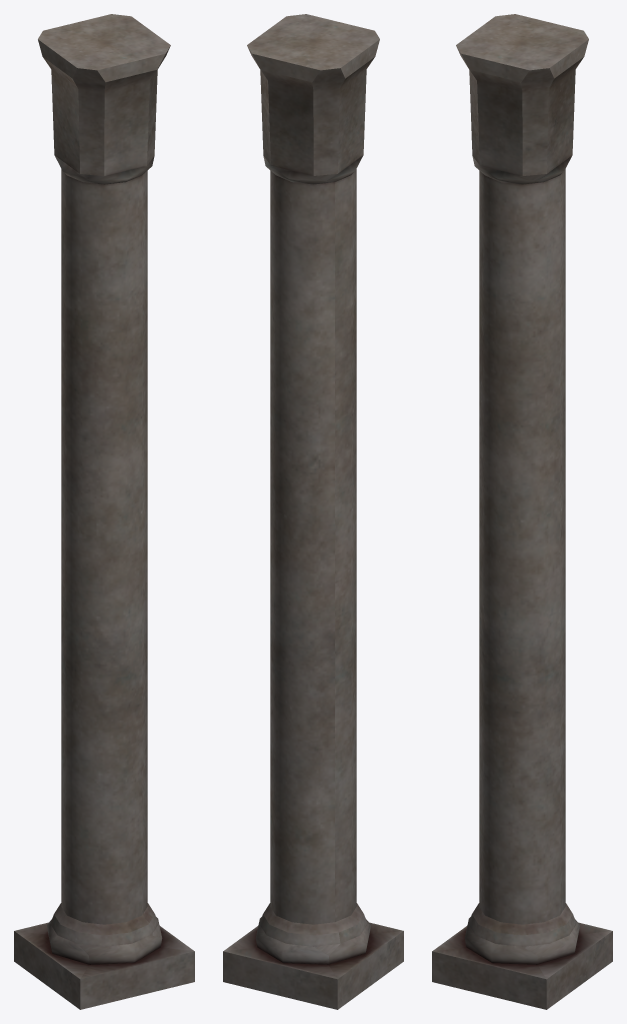
File: sb_obj_outdoor009_AncientTemple_pillar02A_col.fbx
3 renders of one model, left to right at view 1: azimuth 30°, elevation 25°; view 2: azimuth 150°, elevation 25°; view 3: azimuth 330°, elevation 25°, orthographic.
Visible parts, largest first — view 1: sb_obj_outdoor009_AncientTemple_pillar02A_col; view 2: sb_obj_outdoor009_AncientTemple_pillar02A_col; view 3: sb_obj_outdoor009_AncientTemple_pillar02A_col.
Boxes of the visible parts, x1,y1,x2,y2 form: sb_obj_outdoor009_AncientTemple_pillar02A_col: (14, 14, 194, 1009); sb_obj_outdoor009_AncientTemple_pillar02A_col: (223, 14, 403, 1009); sb_obj_outdoor009_AncientTemple_pillar02A_col: (432, 14, 612, 1009).
Size of the model in its own units: 1.29 by 10.01 by 1.29.
